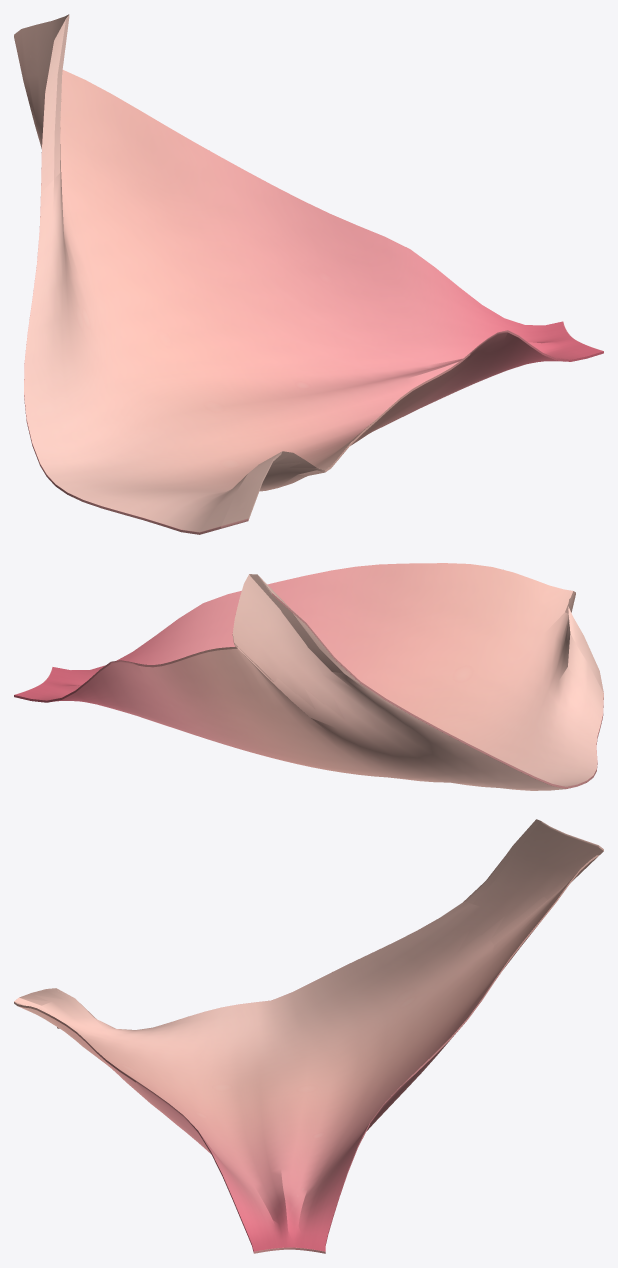
The model's file is papri8.glb.
The picture shows the model from 3 angles, top to bottom: view 1: azimuth 30°, elevation 25°; view 2: azimuth 150°, elevation 25°; view 3: azimuth 270°, elevation 25°; orthographic projection. The views are drawn at different scales.
Parts seen in each view (by area): view 1: Papri_08; view 2: Papri_08; view 3: Papri_08.
Boxes of the visible parts, x1,y1,x2,y2 form: Papri_08: (14, 14, 603, 534); Papri_08: (14, 563, 603, 790); Papri_08: (14, 819, 603, 1253).
Size of the model in its own units: 1.13 by 0.6154 by 1.18.
1 material, 1 textured.
